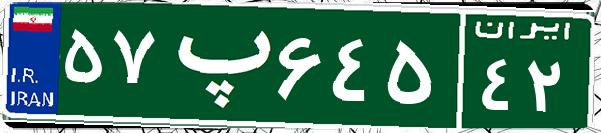2: (525, 38, 570, 115)
4: (330, 28, 385, 110), (475, 38, 525, 113)
5: (385, 28, 445, 110), (57, 26, 110, 107)
6: (273, 28, 330, 110)
7: (110, 28, 158, 105)
پ: (158, 15, 273, 115)
